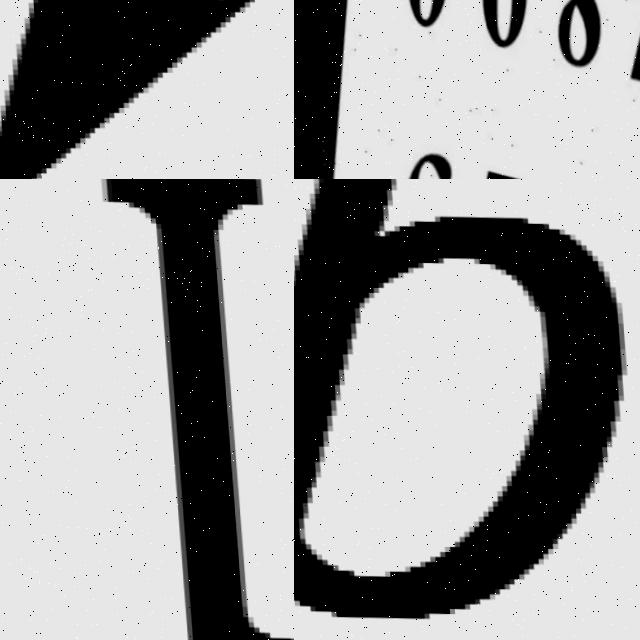0: (356, 0, 501, 73)
3: (354, 127, 485, 179)
7: (585, 0, 640, 117)
8: (513, 0, 640, 101)
9: (440, 0, 574, 86)
L: (91, 179, 294, 640)
Q: (294, 179, 640, 640)
